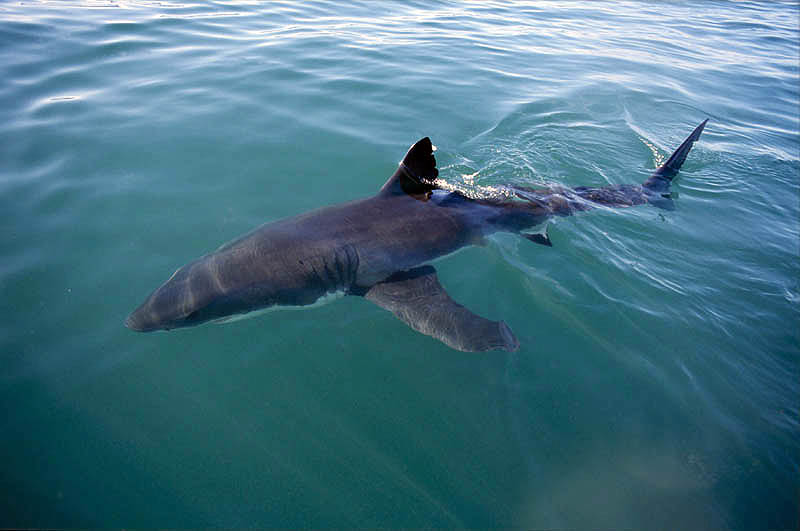Carcharodon_carcharias: (113, 111, 718, 378)
